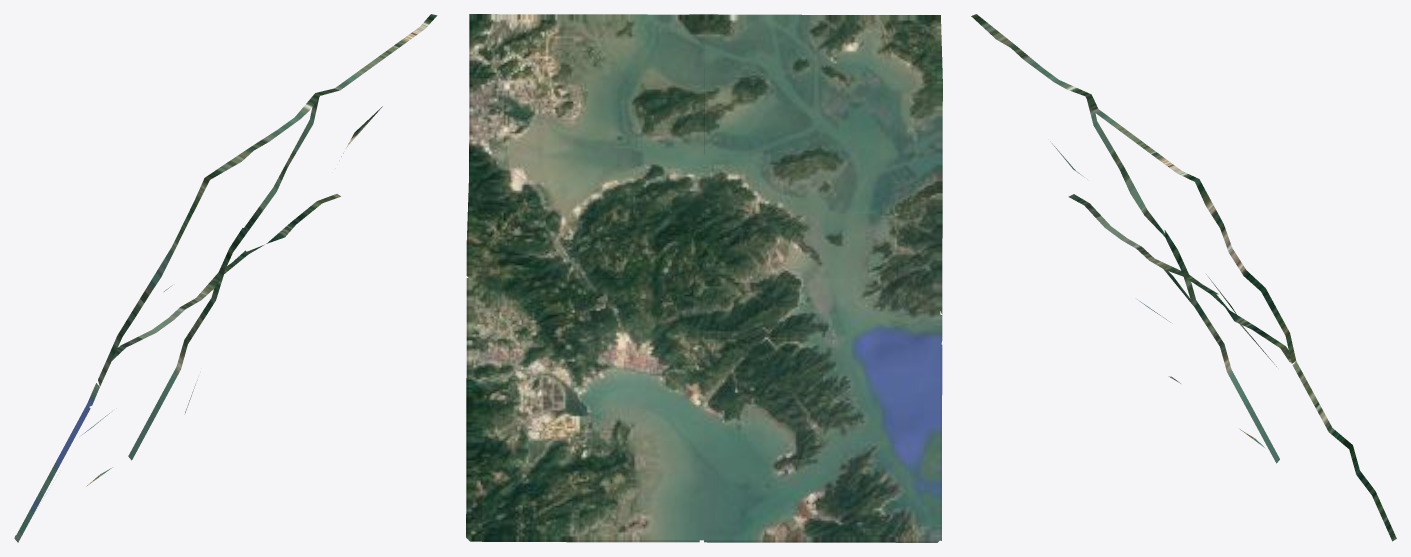
3 renders of one model, left to right at view 1: azimuth 30°, elevation 25°; view 2: azimuth 150°, elevation 25°; view 3: azimuth 270°, elevation 25°, orthographic. The views are drawn at different scales.
Bounding box in the file's own units: 39427 × 35703 × 33250.
Materials: 1 (1 with a texture image).
